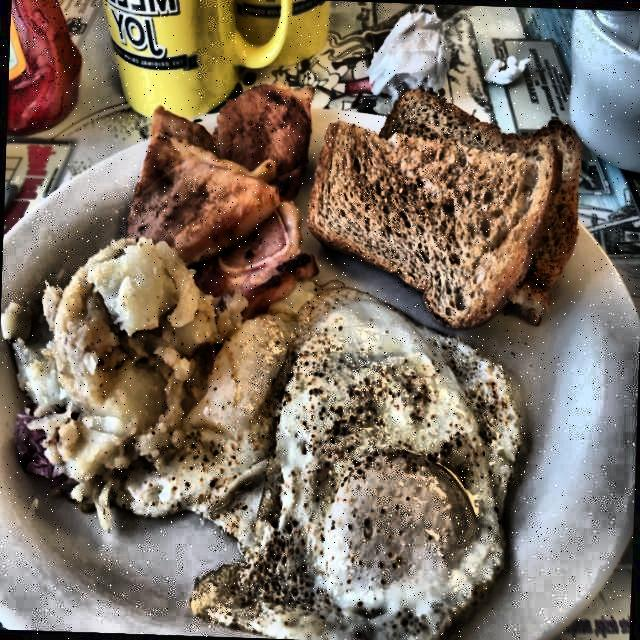Food: (186, 278, 526, 640)
